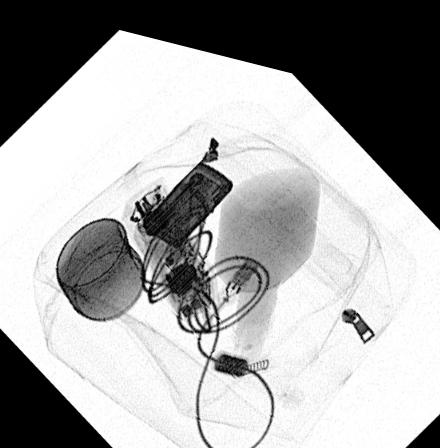Lighter: (143, 150, 234, 239)
